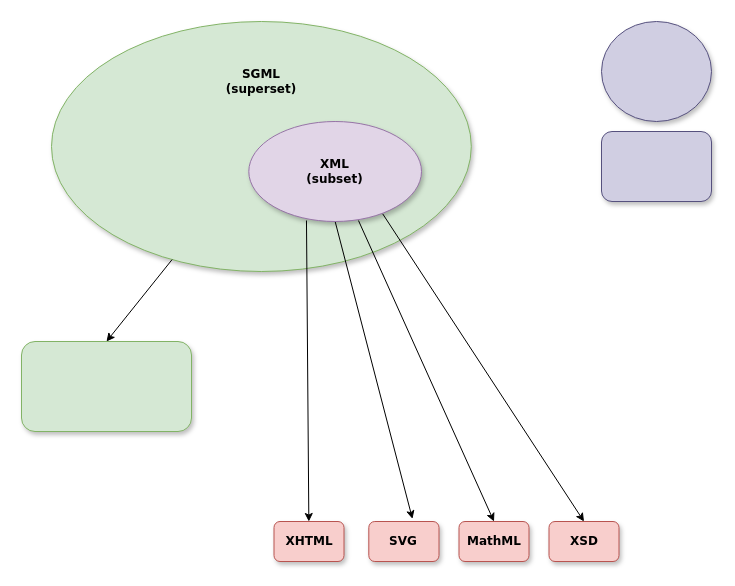
This 735x586 diagram has some shape labels left out. The shapes that lost their labels are listed below. From the top down, each one's centre as x and y in pixels, then its label:
At (x=657, y=72): "Meta-Markup Language".
At (x=657, y=167): "Markup Language".
At (x=107, y=387): "HTML (application)".
